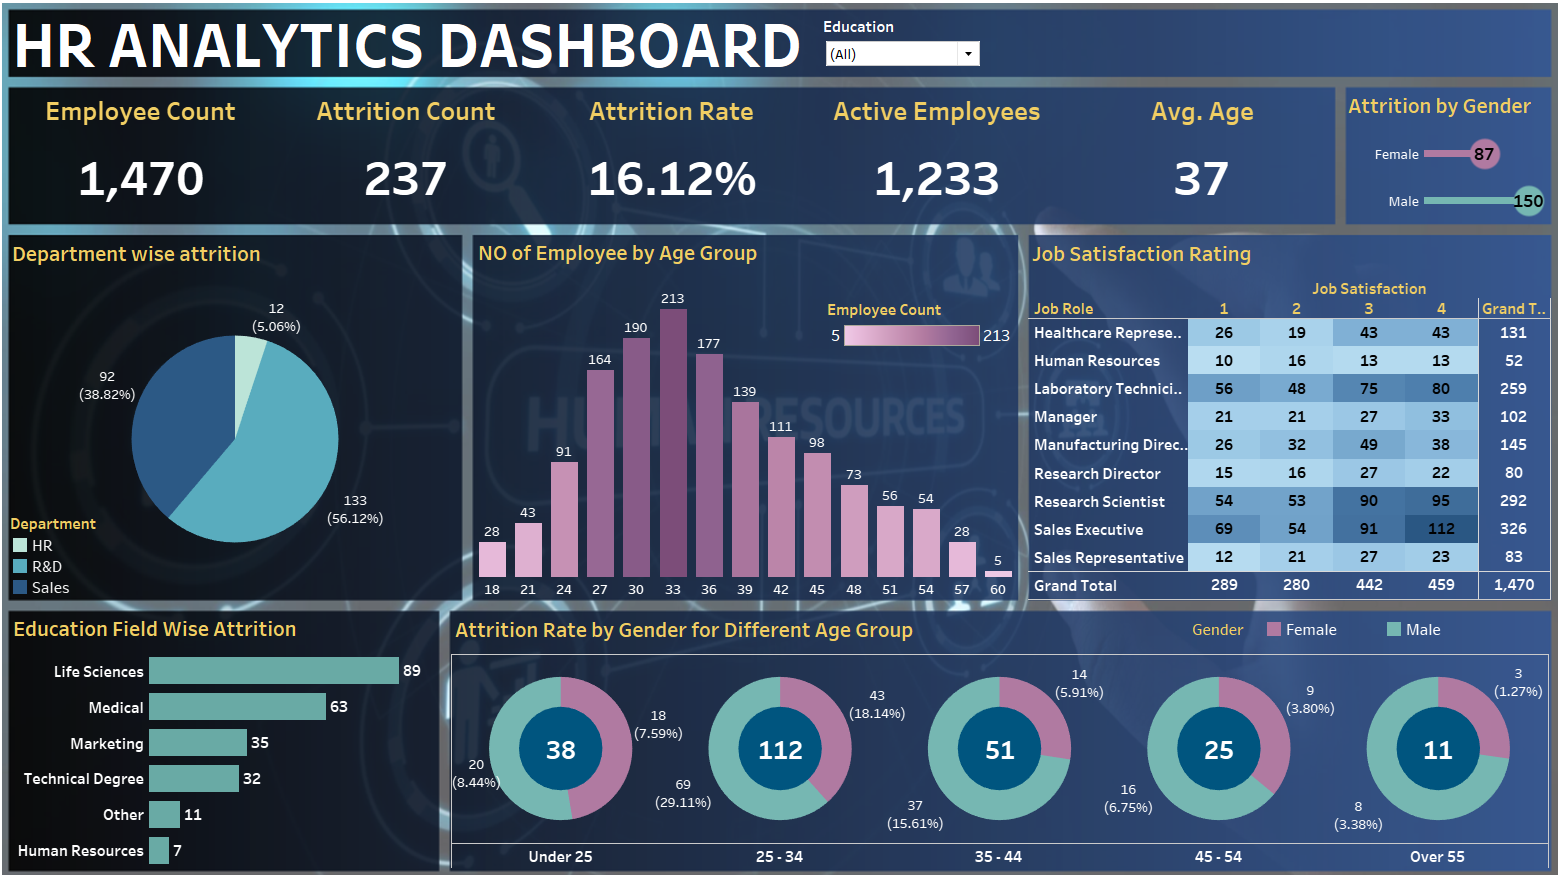

The dashboard page shown, as its layout file describes it:
{"tool":"tableau","page":{"name":" HR ANALYTICS DASHBOARD1","canvas":[1580,900],"ordinal":0},"visuals":[{"type":"image","param":"C:/Users/HP/Downloads/HR background.pptx.png","box":[8,8,1564,884]},{"type":"text","box":[19,19,1541,65]},{"type":"filter","title":"NO of Employee by Age Group","param":"[federated.0047tmv1hnp3lm1e1kp4v0ys4lac].[none:Education:nk]","box":[833,25,160,55]},{"type":"worksheet","title":"KPI","mark":"Automatic","box":[18,96,1327,137]},{"type":"worksheet","title":"Attrition by Gender","mark":"Automatic","rows":["Gender"],"cols":["Calculation_1145321685360250880","Calculation_1145321685360250880"],"box":[1354,96,206,137]},{"type":"worksheet","title":"NO of Employee by Age Group","mark":"Automatic","rows":["Employee Count"],"cols":["Age (bin)"],"box":[484,243,543,365]},{"type":"worksheet","title":"Department wise attrition","mark":"Pie","box":[18,244,454,365]},{"type":"worksheet","title":"Job Satisfaction Rating","mark":"Square","rows":["Job Role"],"cols":["Job Satisfaction"],"box":[1038,244,523,365]},{"type":"legend","title":"NO of Employee by Age Group","param":"[federated.0047tmv1hnp3lm1e1kp4v0ys4lac].[sum:Employee Count:qk]","box":[837,308,188,70]},{"type":"legend","title":"Department wise attrition","param":"[federated.0047tmv1hnp3lm1e1kp4v0ys4lac].[none:Department:nk]","box":[20,522,140,85]},{"type":"worksheet","title":"Education Field Wise Attrition","mark":"Automatic","rows":["Education Field"],"cols":["Calculation_1145321685360250880"],"box":[19,619,429,258]},{"type":"worksheet","title":"Attrition Rate by Gender for Different Age Group","mark":"Pie","rows":["Calculation_1145321685394886660","Calculation_1145321685394886660"],"cols":["CF_age band"],"box":[461,620,1098,258]},{"type":"legend","title":"Attrition Rate by Gender for Different Age Group","param":"[federated.0047tmv1hnp3lm1e1kp4v0ys4lac].[none:Gender:nk]","box":[1202,628,361,34]}]}

Visuals, with their boxes in screenshot pixels (x1, y1, x2, y2), scaled from the page's 1580x900 canvas onto the 1558x875 screenshot:
image: <region>8, 8, 1550, 867</region>
text: <region>19, 18, 1538, 82</region>
"NO of Employee by Age Group" filter: <region>821, 24, 979, 78</region>
"KPI" worksheet: <region>18, 93, 1326, 227</region>
"Attrition by Gender" worksheet: <region>1335, 93, 1538, 227</region>
"NO of Employee by Age Group" worksheet: <region>477, 236, 1013, 591</region>
"Department wise attrition" worksheet (Pie marks): <region>18, 237, 465, 592</region>
"Job Satisfaction Rating" worksheet (Square marks): <region>1024, 237, 1539, 592</region>
"NO of Employee by Age Group" legend: <region>825, 299, 1011, 368</region>
"Department wise attrition" legend: <region>20, 508, 158, 590</region>
"Education Field Wise Attrition" worksheet: <region>19, 602, 442, 853</region>
"Attrition Rate by Gender for Different Age Group" worksheet (Pie marks): <region>455, 603, 1537, 854</region>
"Attrition Rate by Gender for Different Age Group" legend: <region>1185, 611, 1541, 644</region>
